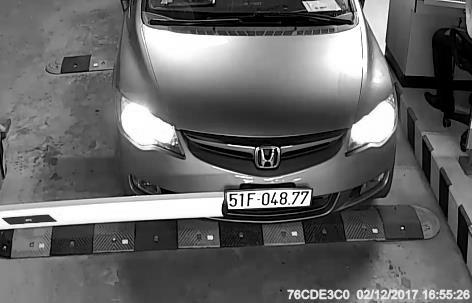License-plate: (213, 183, 318, 217)
